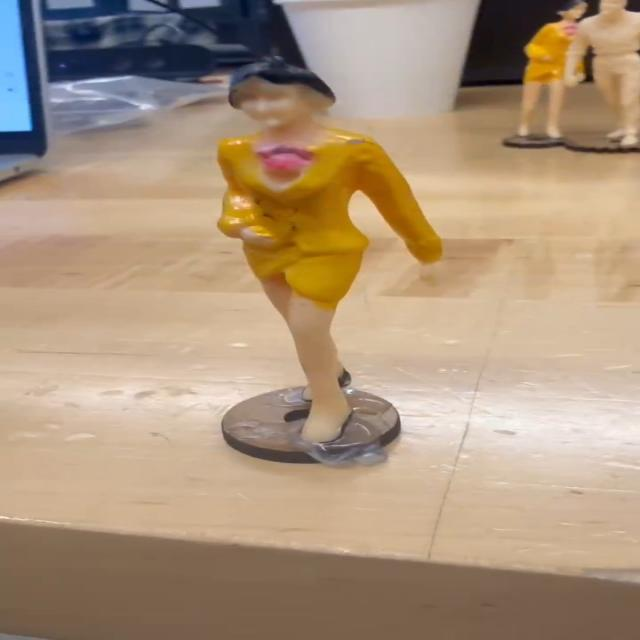Authorized: (200, 46, 458, 448)
